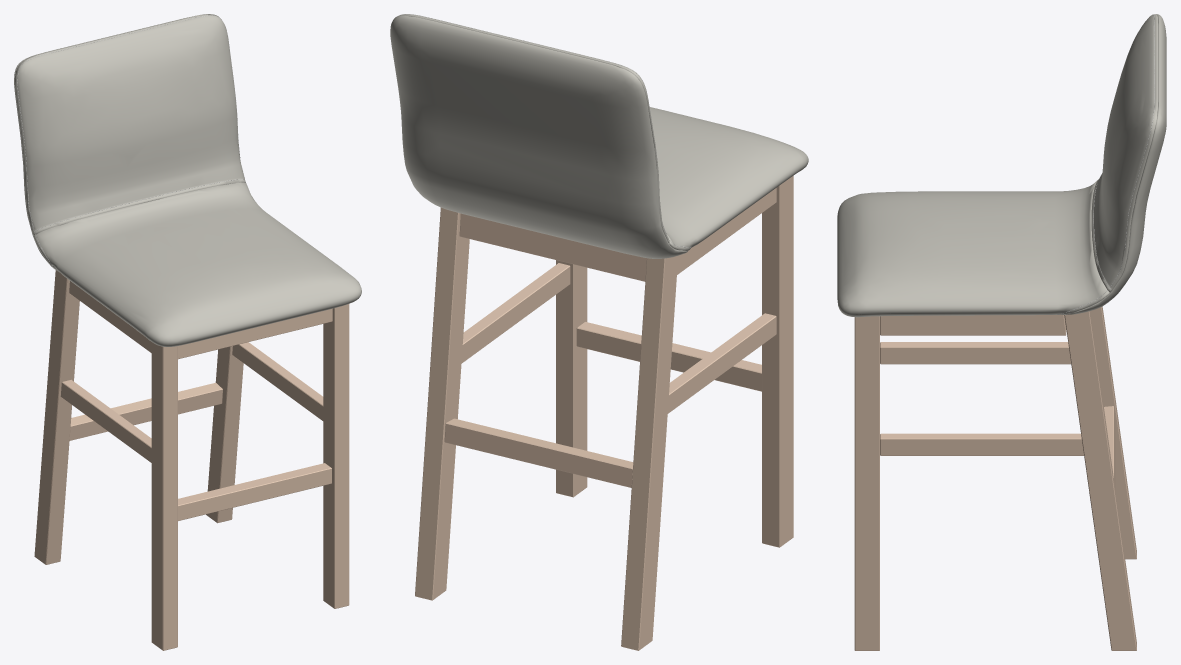
Rendered from banqueta-sara.glb.
3 renders of one model, left to right at view 1: azimuth 30°, elevation 25°; view 2: azimuth 150°, elevation 25°; view 3: azimuth 270°, elevation 25°, orthographic. The views are drawn at different scales.
Size of the model in its own units: 0.4219 by 0.9333 by 0.5168.
